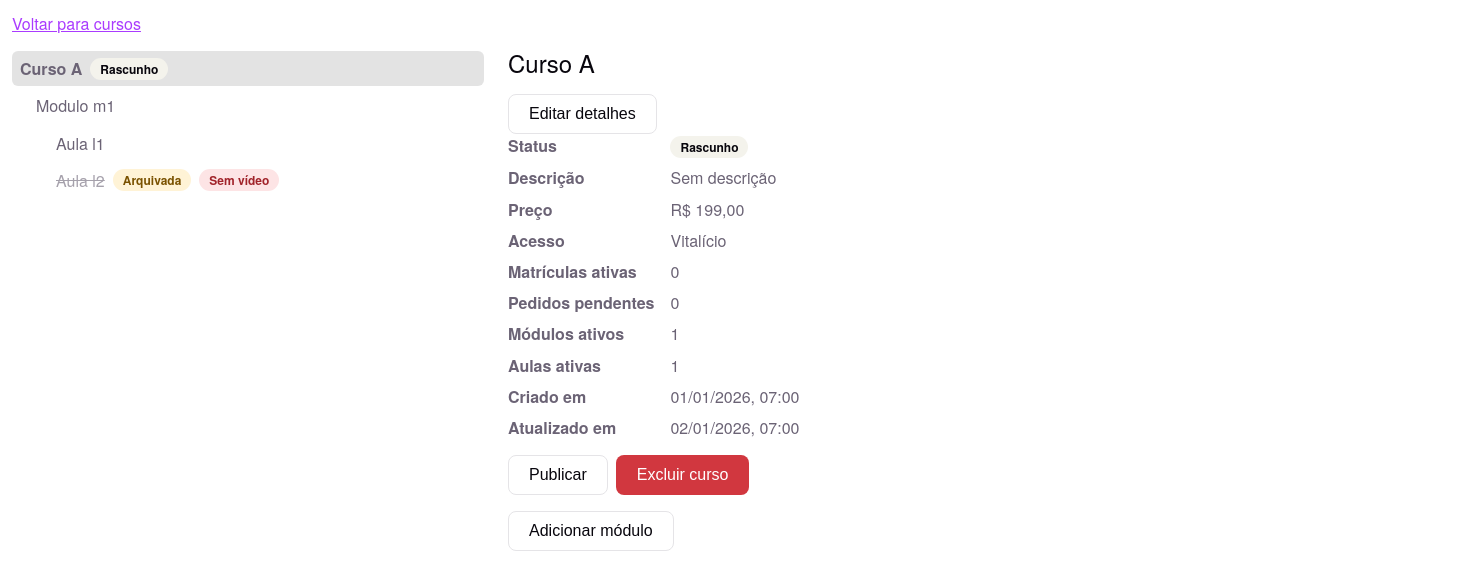
it: lesson video action › warns, listing the other course and lesson titles, when the video is already used elsewhere
Step 1. Click the list item "Aula l2 Arquivada Sem vídeo" → [168, 180], box 56,169 -> 279,192
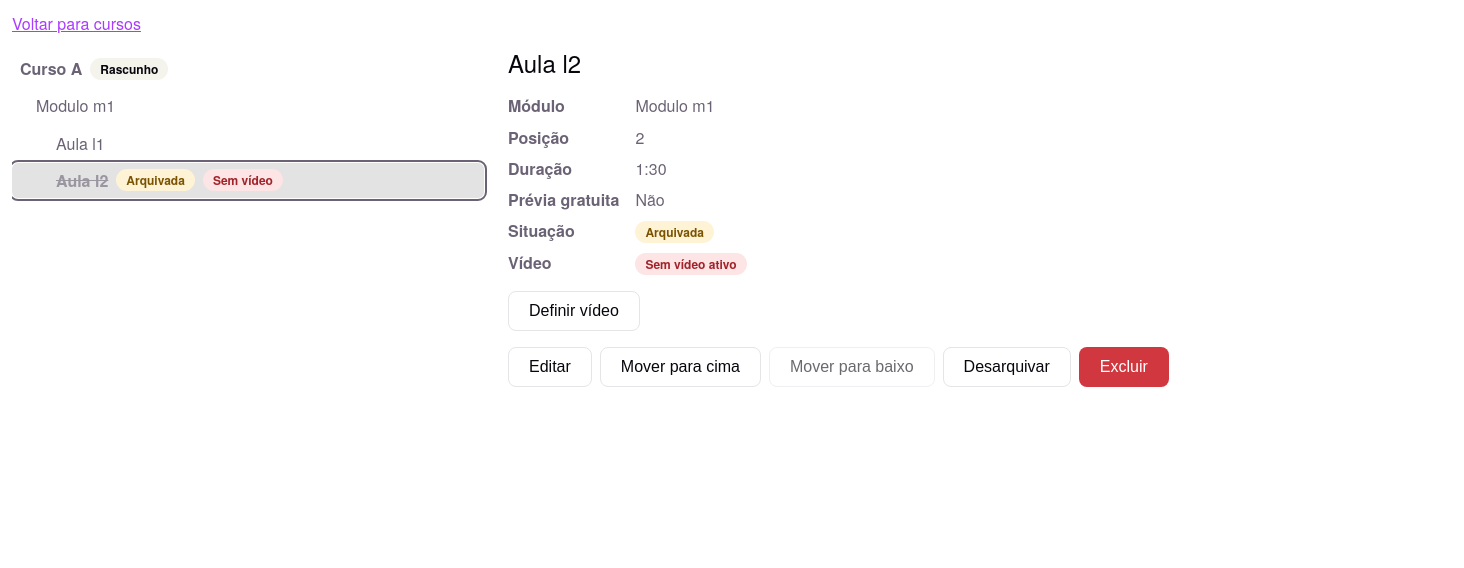
Step 2. Click the button "Definir vídeo" → [574, 311], box 508,291 -> 640,331
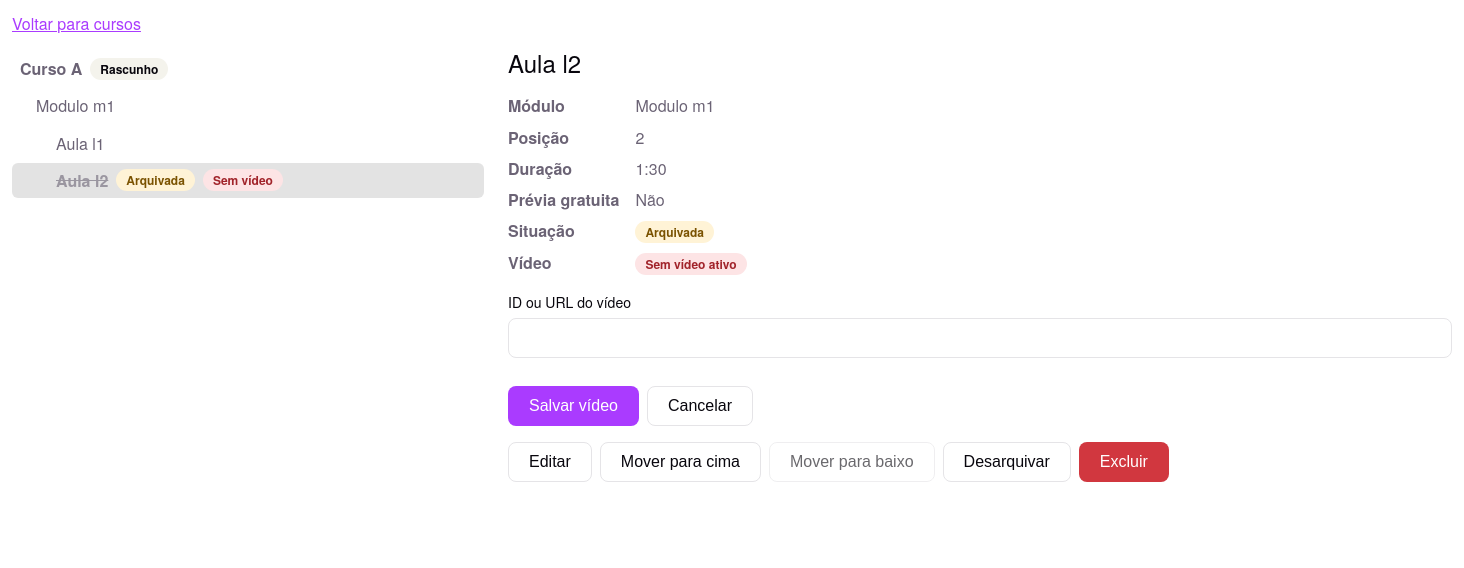
Step 3. Type "dQw4w9WgXcQ" into the field labelled "ID ou URL do vídeo" → [980, 338], box 508,318 -> 1452,358
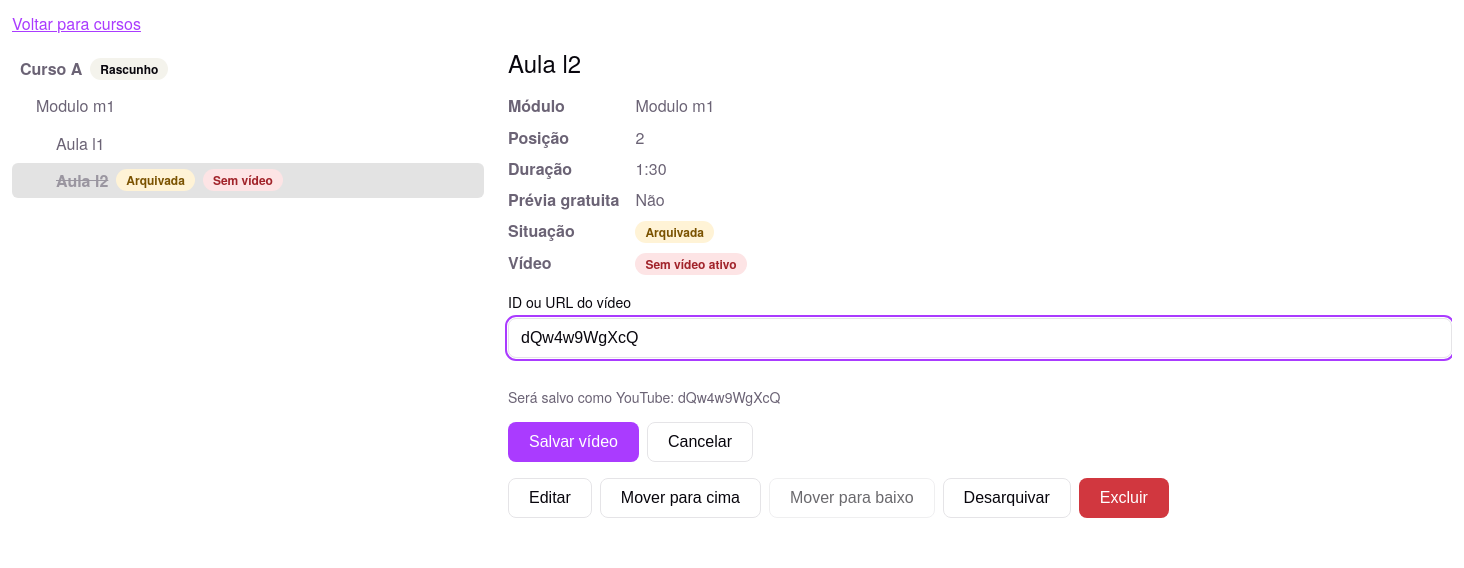
Step 4. Click the button "Salvar vídeo" → [573, 442], box 508,422 -> 639,462
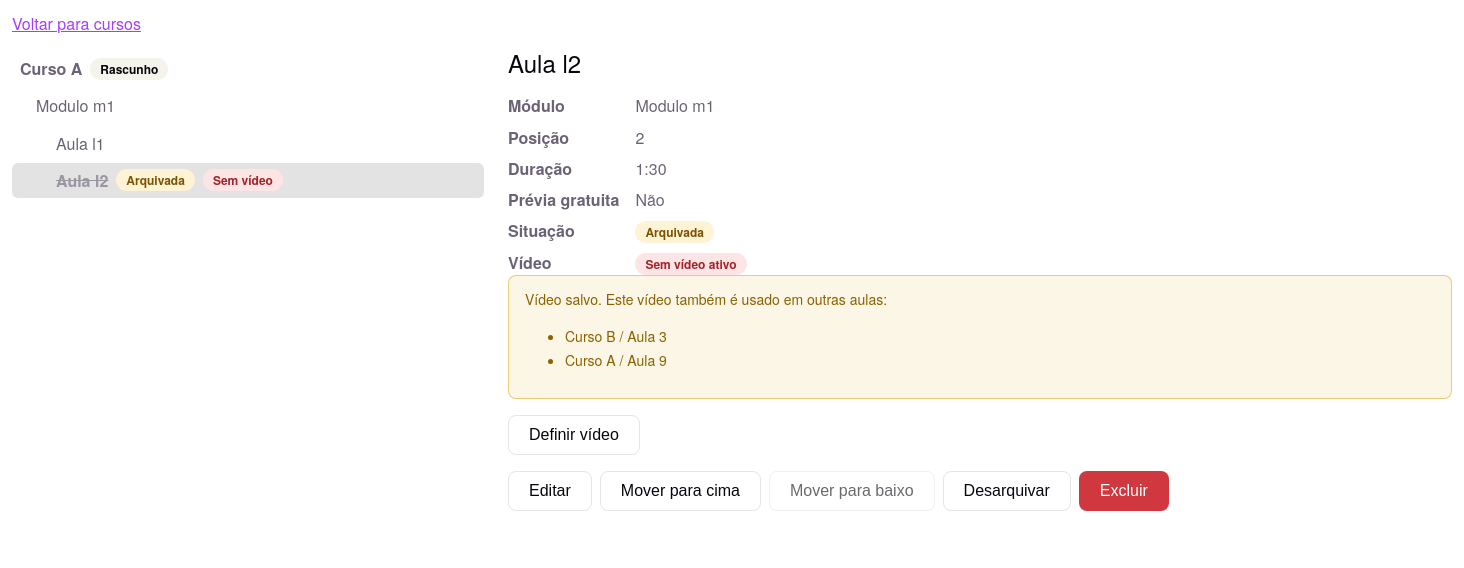
Result: the message shows "Este vídeo também é usado em outras aulas" at 525,289 -> 887,309
Result: the message shows "Curso B / Aula 3" at 508,275 -> 1452,399
Result: the message shows "Curso A / Aula 9" at 508,275 -> 1452,399
